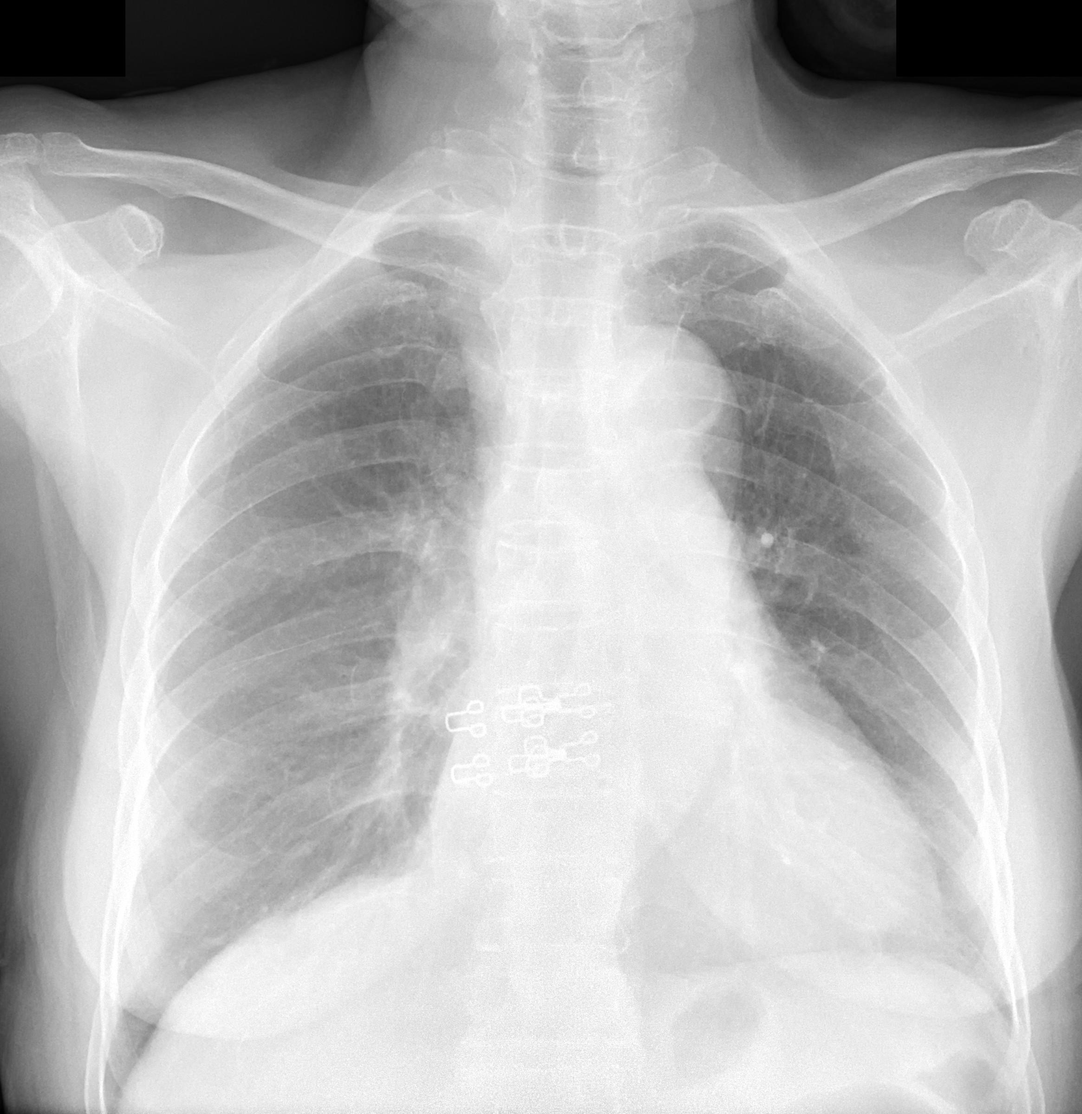Aortic enlargement: (578, 323, 746, 463)
Cardiomegaly: (396, 769, 955, 975)
